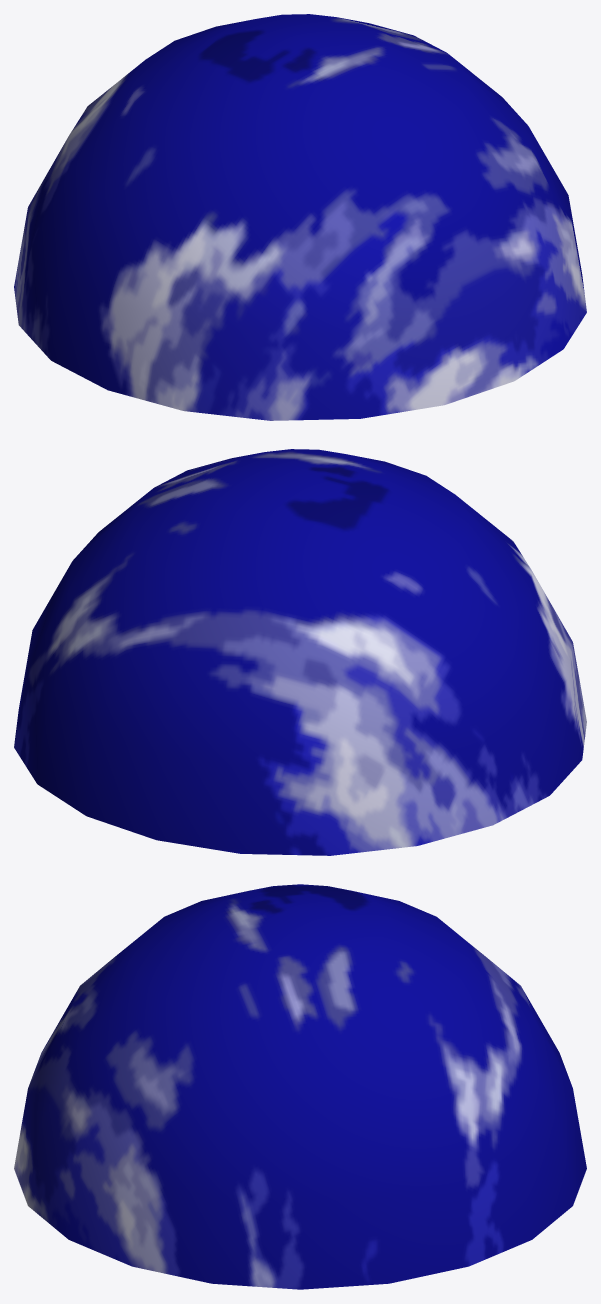
File: map.obj
3 views of the same model, one above another, from view 1: azimuth 30°, elevation 25°; view 2: azimuth 150°, elevation 25°; view 3: azimuth 270°, elevation 25° (orthographic).
Visible parts, largest first — view 1: Sphere001; view 2: Sphere001; view 3: Sphere001.
Boxes of the visible parts, bbox=[...] form: Sphere001: bbox=[14, 14, 586, 420]; Sphere001: bbox=[14, 449, 586, 855]; Sphere001: bbox=[14, 884, 586, 1289].
Bounding box in the file's own units: 5598 × 2801 × 5598.
Materials: 17 (17 with a texture image).
